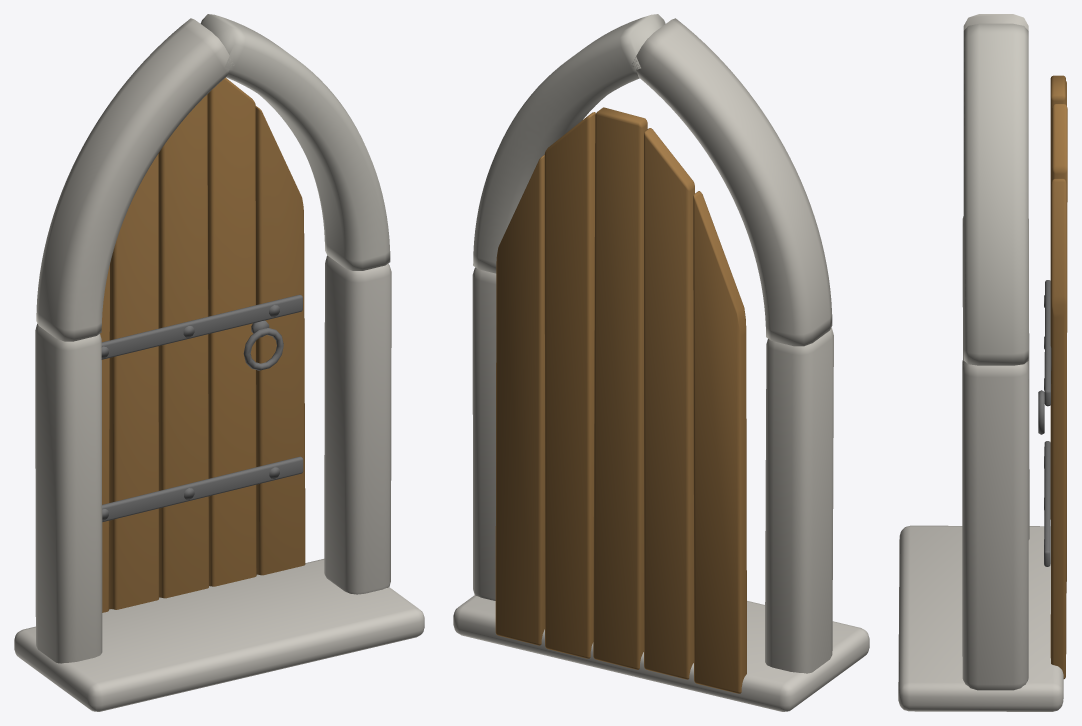
The model's file is tg_door_gothic.glb.
The picture shows the model from 3 angles, left to right: view 1: azimuth 30°, elevation 25°; view 2: azimuth 150°, elevation 25°; view 3: azimuth 270°, elevation 25°; orthographic projection. The views are drawn at different scales.
Parts seen in each view (by area): view 1: door_tg_gothic; view 2: door_tg_gothic; view 3: door_tg_gothic.
Part boxes in pixels (left/top/right/bottom): door_tg_gothic: left=14, top=14, right=424, bottom=711; door_tg_gothic: left=453, top=14, right=869, bottom=711; door_tg_gothic: left=898, top=14, right=1067, bottom=711.
Size of the model in its own units: 1.51 by 2.67 by 0.6641.
